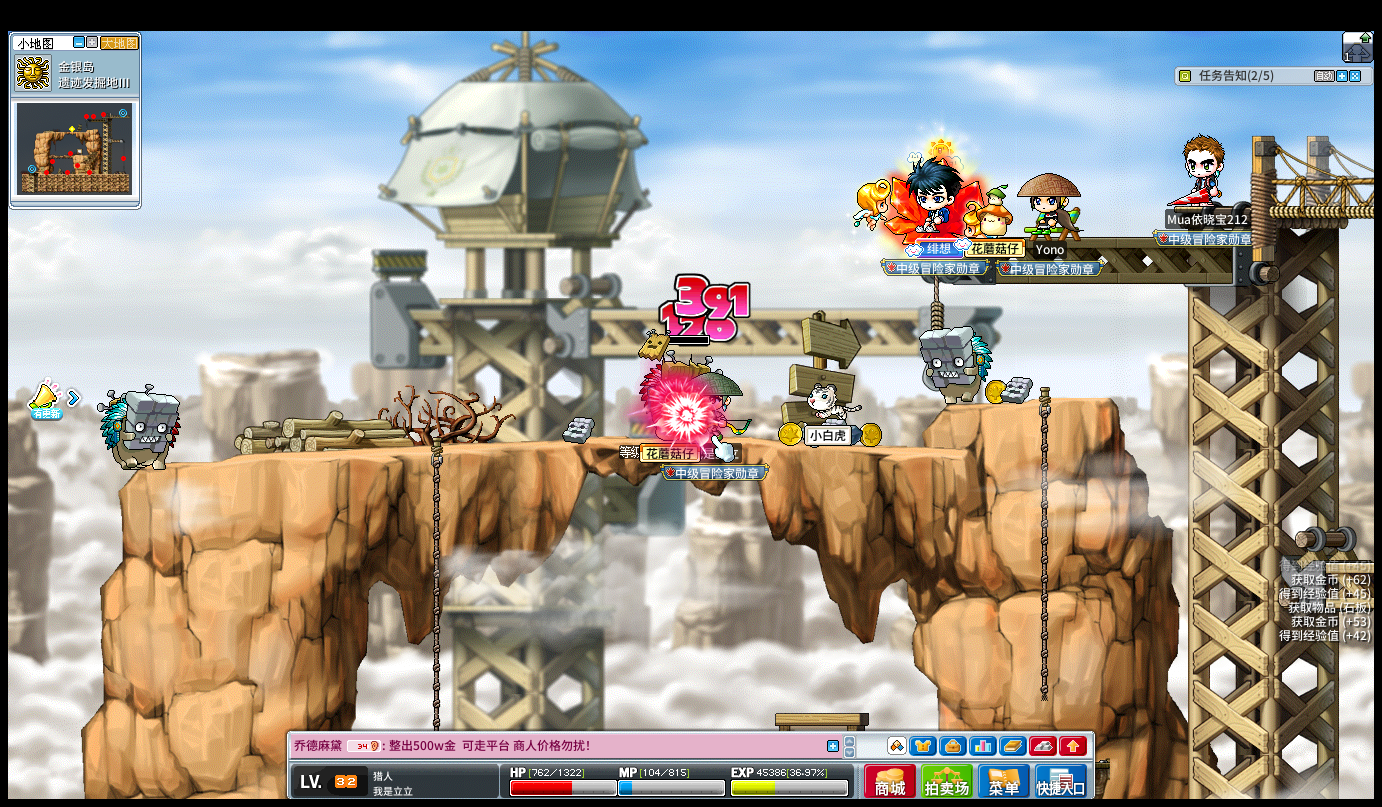floor: (139, 431, 996, 459), (963, 391, 1118, 407)
monster: (101, 390, 182, 472), (918, 325, 992, 407)
rope: (1036, 385, 1051, 705), (427, 434, 442, 733)
